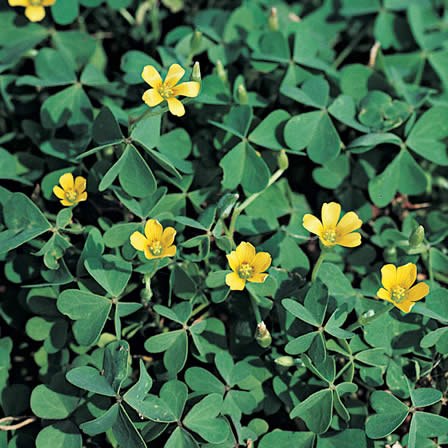oxalis: (33, 24, 419, 448)
